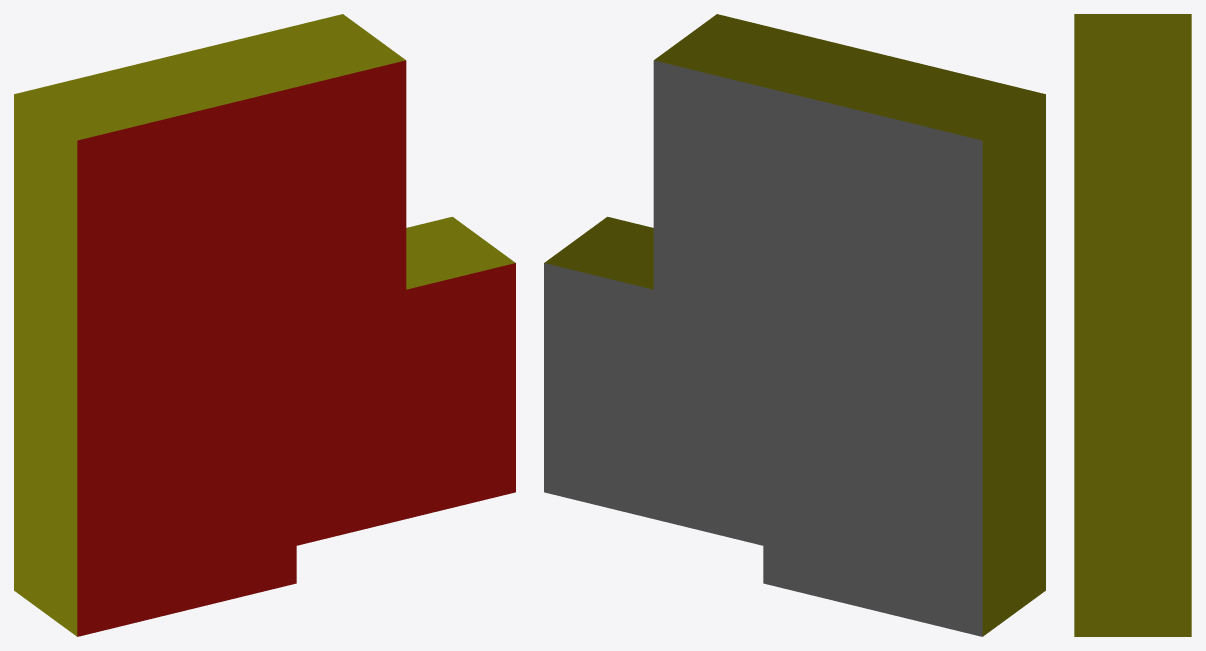
The model's file is idf.obj.
The picture shows the model from 3 angles, left to right: view 1: azimuth 30°, elevation 25°; view 2: azimuth 150°, elevation 25°; view 3: azimuth 270°, elevation 25°; orthographic projection. The views are drawn at different scales.
Size of the model in its own units: 12.19 by 13.19 by 3.05.
